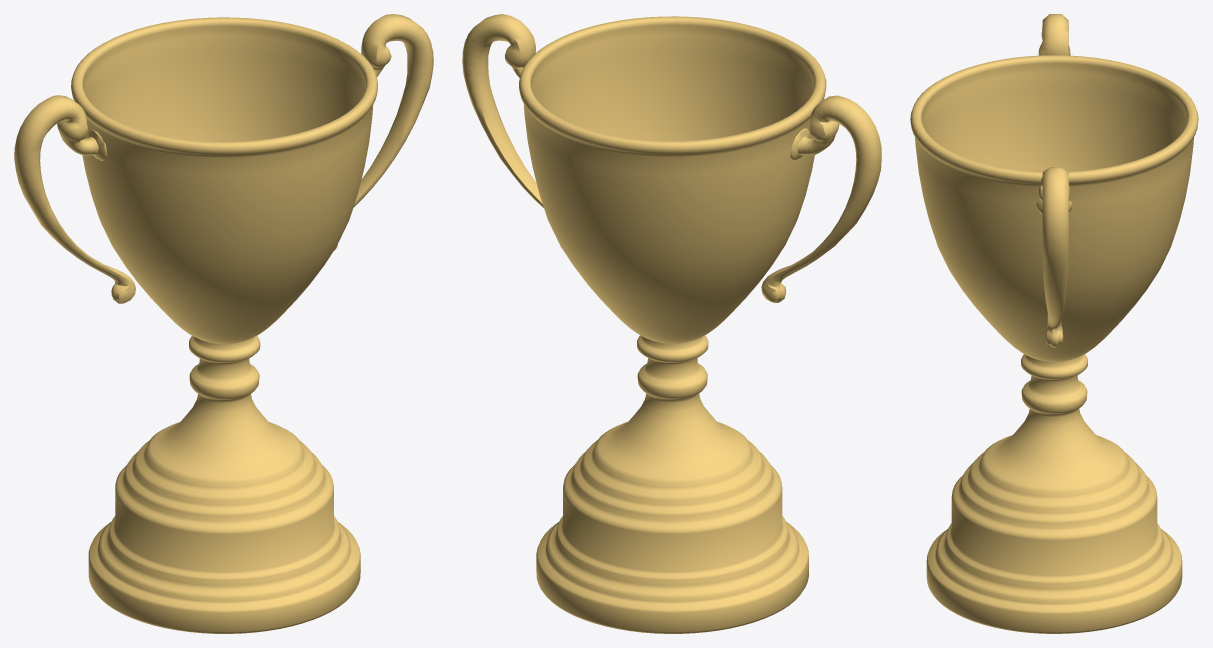
The model's file is golden_kupa.glb.
3 renders of one model, left to right at view 1: azimuth 30°, elevation 25°; view 2: azimuth 150°, elevation 25°; view 3: azimuth 270°, elevation 25°, orthographic. The views are drawn at different scales.
Parts seen in each view (by area): view 1: golden_kupa_AO_candidate; view 2: golden_kupa_AO_candidate; view 3: golden_kupa_AO_candidate.
Boxes of the visible parts, x1,y1,x2,y2 form: golden_kupa_AO_candidate: [14, 14, 433, 633]; golden_kupa_AO_candidate: [462, 14, 881, 633]; golden_kupa_AO_candidate: [910, 14, 1198, 633].
Size of the model in its own units: 0.8287 by 1 by 0.5345.
